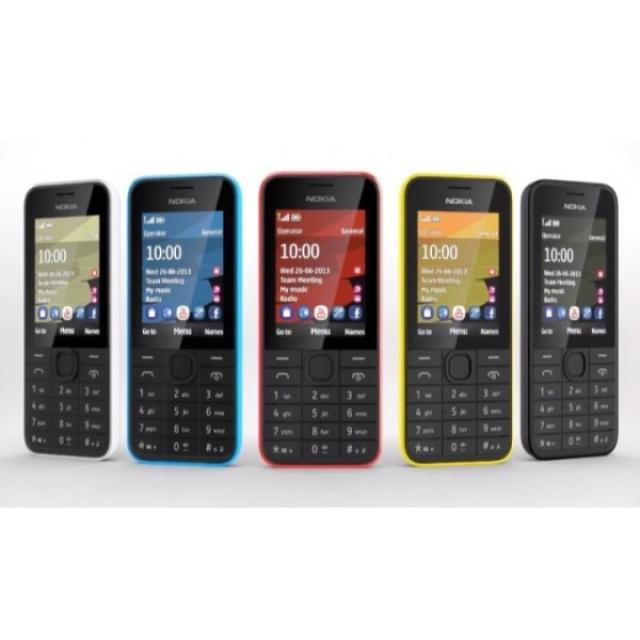mobile phone: (256, 171, 382, 467), (126, 174, 242, 465), (401, 173, 513, 466), (519, 178, 620, 460), (23, 179, 114, 460)
